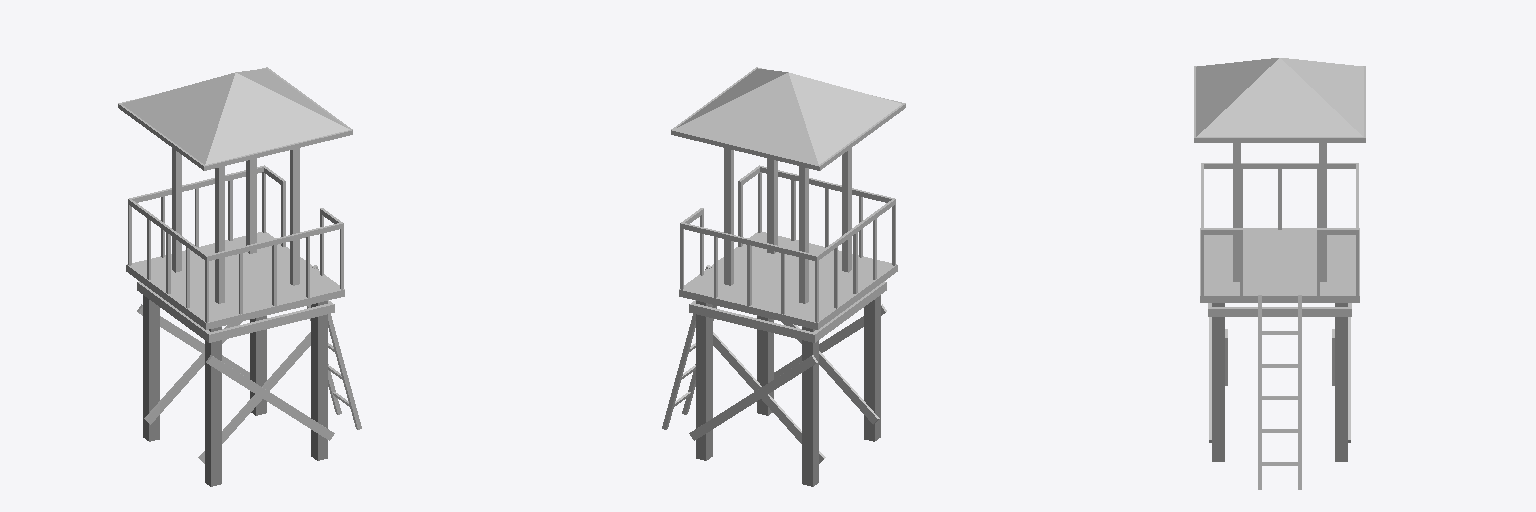
The model's file is Lifeguard.obj.
3 renders of one model, left to right at view 1: azimuth 30°, elevation 25°; view 2: azimuth 150°, elevation 25°; view 3: azimuth 270°, elevation 25°, orthographic.
Visible parts, largest first — view 1: Top_Platform.001_Cube.018, Platform_Cube.002, Posts_Cube, Cube_Cube.008, Railing_bar_Cube.010, Support_Cross_1_Cube.004, Support_Cross_2_Cube.005, Top_Platform_Cube.017, Railing_Cube.009, Support_2_Cube.001, Steps_Cube.006, Support_1_Cube.003 (+2 smaller); view 2: Top_Platform.001_Cube.018, Platform_Cube.002, Posts_Cube, Cube_Cube.008, Railing_bar_Cube.010, Support_Cross_1_Cube.004, Support_Cross_2_Cube.005, Top_Platform_Cube.017, Railing_Cube.009, Support_2_Cube.001, Steps_Cube.006, Support_1_Cube.003 (+2 smaller); view 3: Top_Platform.001_Cube.018, Platform_Cube.002, Posts_Cube, Cube_Cube.008, Steps_Cube.006, Support_1_Cube.003, Top_Platform_Cube.017, Railing.001_Cube.011, Support_Cross_1_Cube.004, Cube.001_Cube.007, Railing.002_Cube.016.
Boxes of the visible parts, box(x1,y1,x2,y2) form: Top_Platform.001_Cube.018: box(122, 68, 349, 164); Platform_Cube.002: box(126, 232, 344, 329); Posts_Cube: box(143, 295, 327, 486); Cube_Cube.008: box(172, 148, 299, 303); Railing_bar_Cube.010: box(128, 172, 343, 322); Support_Cross_1_Cube.004: box(137, 304, 334, 440); Support_Cross_2_Cube.005: box(144, 321, 310, 463); Top_Platform_Cube.017: box(118, 67, 352, 170); Railing_Cube.009: box(129, 165, 343, 261); Support_2_Cube.001: box(137, 282, 334, 342); Steps_Cube.006: box(307, 265, 361, 429); Support_1_Cube.003: box(137, 281, 334, 342); Top_Platform.001_Cube.018: box(674, 68, 901, 164); Platform_Cube.002: box(679, 232, 897, 329); Posts_Cube: box(696, 295, 880, 486); Cube_Cube.008: box(724, 148, 851, 303); Railing_bar_Cube.010: box(680, 172, 895, 322); Support_Cross_1_Cube.004: box(689, 304, 886, 440); Support_Cross_2_Cube.005: box(713, 321, 879, 463); Top_Platform_Cube.017: box(671, 67, 905, 170); Railing_Cube.009: box(680, 165, 894, 261); Support_2_Cube.001: box(689, 282, 886, 341); Steps_Cube.006: box(662, 265, 716, 429); Support_1_Cube.003: box(689, 281, 886, 342); Top_Platform.001_Cube.018: box(1196, 58, 1363, 136); Platform_Cube.002: box(1200, 228, 1359, 302); Posts_Cube: box(1212, 303, 1347, 461); Cube_Cube.008: box(1233, 143, 1326, 281); Steps_Cube.006: box(1258, 295, 1301, 489); Support_1_Cube.003: box(1208, 307, 1351, 316); Top_Platform_Cube.017: box(1194, 66, 1365, 142); Railing.001_Cube.011: box(1204, 163, 1355, 168); Support_Cross_1_Cube.004: box(1209, 317, 1350, 442); Cube.001_Cube.007: box(1262, 331, 1297, 465); Railing.002_Cube.016: box(1204, 228, 1355, 234).
Bounding box in the file's own units: 3.56 × 6.75 × 2.8.